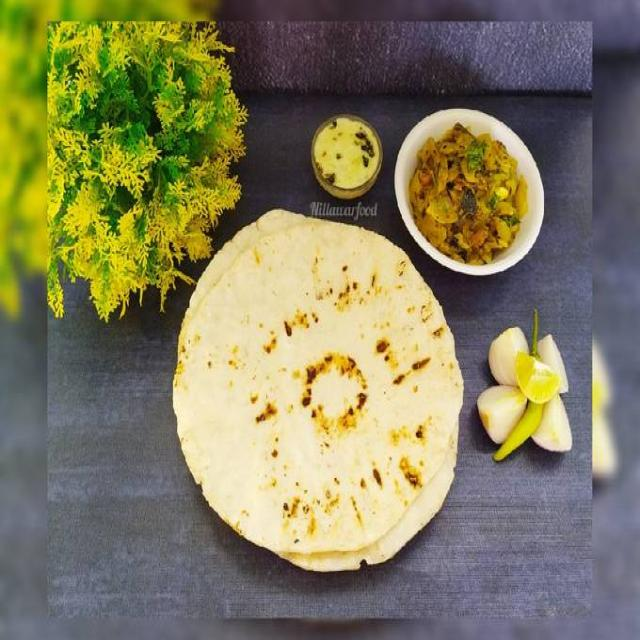RICE BHAKRI: (171, 213, 464, 578)
